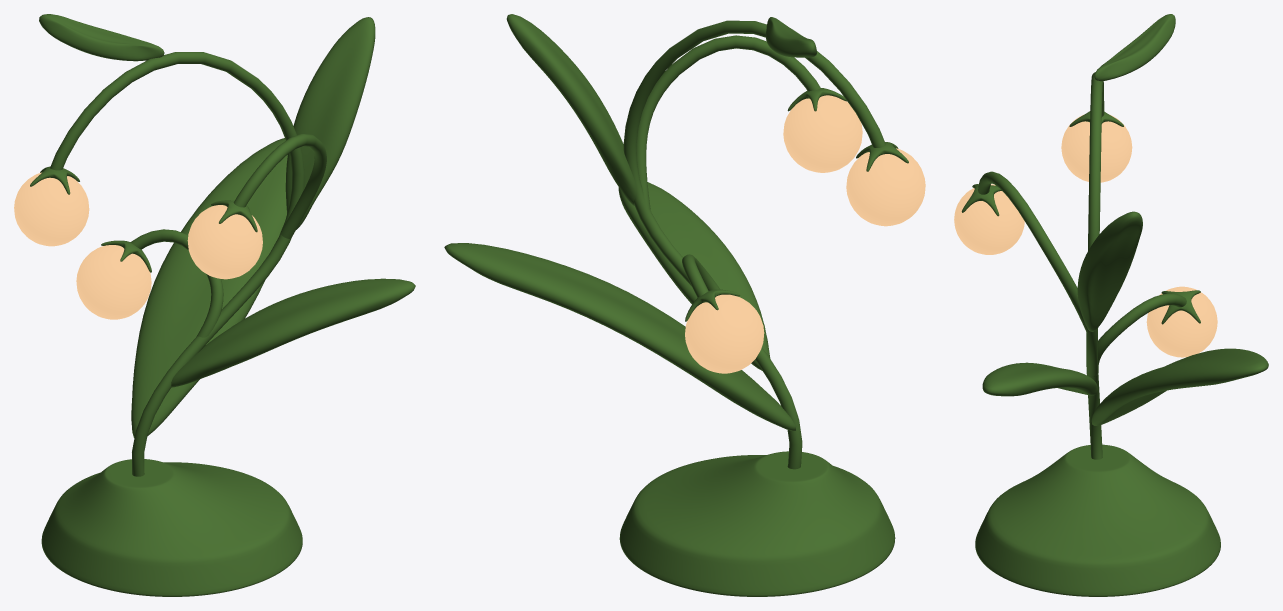
File: lamp_type_4.glb
3 views of the same model, side by side, from view 1: azimuth 30°, elevation 25°; view 2: azimuth 150°, elevation 25°; view 3: azimuth 270°, elevation 25° (orthographic). The views are drawn at different scales.
Parts seen in each view (by area): view 1: Eggplant Lamp, Leave0, Leave1, strand1, Leave2, bulb3, bulb1, bulb2, Leave3, strand3, strand2; view 2: Eggplant Lamp, Leave0, strand1, Leave1, Leave2, bulb3, bulb2, bulb1, strand3, Leave3, strand2; view 3: Eggplant Lamp, Leave0, Leave2, strand1, bulb2, bulb3, bulb1, Leave1, strand3, Leave3, strand2, flowerb3 (+1 smaller).
Part boxes in pixels (x1,y1,x2,y2): Eggplant Lamp: (41, 459, 302, 596); Leave0: (131, 138, 287, 437); Leave1: (171, 278, 415, 387); strand1: (50, 52, 304, 476); Leave2: (285, 17, 375, 229); bulb3: (76, 245, 151, 319); bulb1: (14, 172, 89, 246); bulb2: (187, 205, 262, 279); Leave3: (39, 14, 164, 61); strand3: (233, 134, 326, 238); strand2: (130, 229, 223, 337); Eggplant Lamp: (619, 451, 895, 596); Leave0: (444, 243, 796, 430); strand1: (623, 20, 885, 469); Leave1: (618, 182, 770, 370); Leave2: (506, 14, 636, 205); bulb3: (685, 294, 764, 373); bulb2: (783, 95, 862, 172); bulb1: (846, 148, 925, 226); strand3: (636, 35, 820, 209); Leave3: (766, 17, 816, 57); strand2: (682, 254, 720, 297); Eggplant Lamp: (975, 444, 1220, 596); Leave0: (1091, 348, 1268, 425); Leave2: (1077, 211, 1142, 331); strand1: (1086, 72, 1104, 459); bulb2: (954, 184, 1024, 254); bulb3: (1146, 286, 1217, 357); bulb1: (1061, 114, 1132, 182); Leave1: (982, 362, 1097, 396); strand3: (978, 171, 1088, 333); Leave3: (1094, 14, 1175, 81); strand2: (1094, 293, 1186, 376); flowerb3: (1161, 290, 1200, 324).
Bounding box in the file's own units: 0.2435 × 0.3255 × 0.1892.
